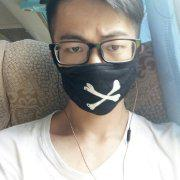OK: (54, 28, 138, 114)
